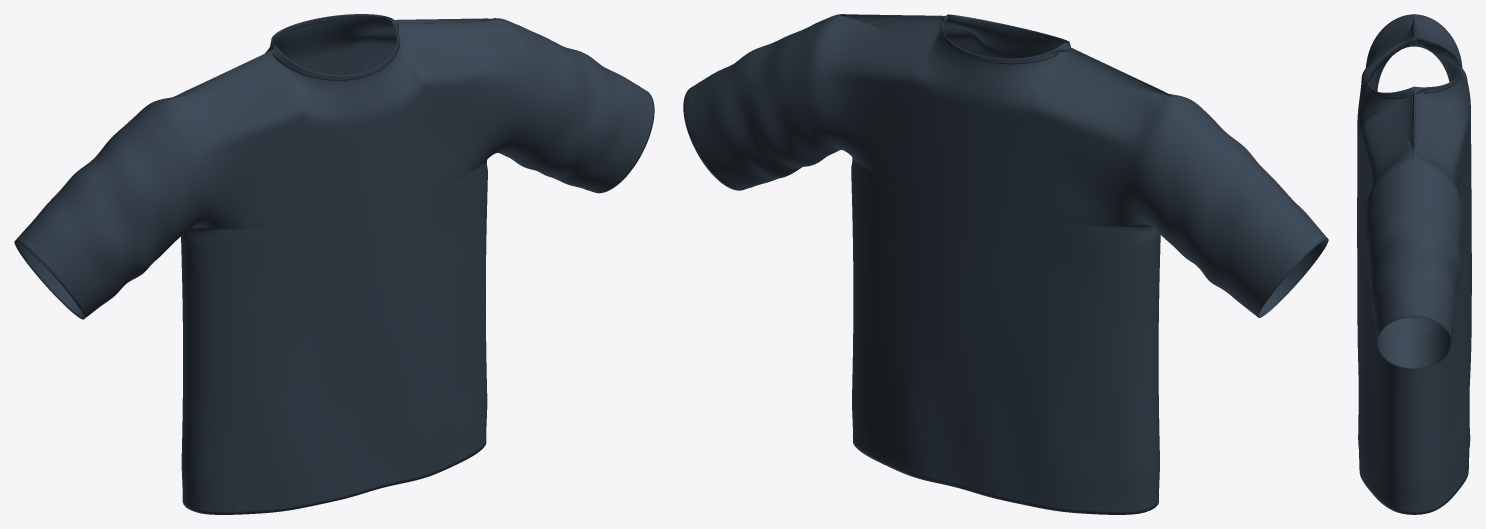
File: tee-oversized.glb
The picture shows the model from 3 angles, left to right: view 1: azimuth 30°, elevation 25°; view 2: azimuth 150°, elevation 25°; view 3: azimuth 270°, elevation 25°; orthographic projection. The views are drawn at different scales.
Parts seen in each view (by area): view 1: tee-oversized, Collar; view 2: tee-oversized, Collar; view 3: tee-oversized, Collar.
Part boxes in pixels (x1,y1,x2,y2): tee-oversized: (14,14,654,514); Collar: (270,14,399,80); tee-oversized: (683,14,1328,514); Collar: (941,14,1070,64); tee-oversized: (1357,14,1471,514); Collar: (1367,36,1460,99).
Bounding box in the file's own units: 2.06 × 1.38 × 0.3695.
